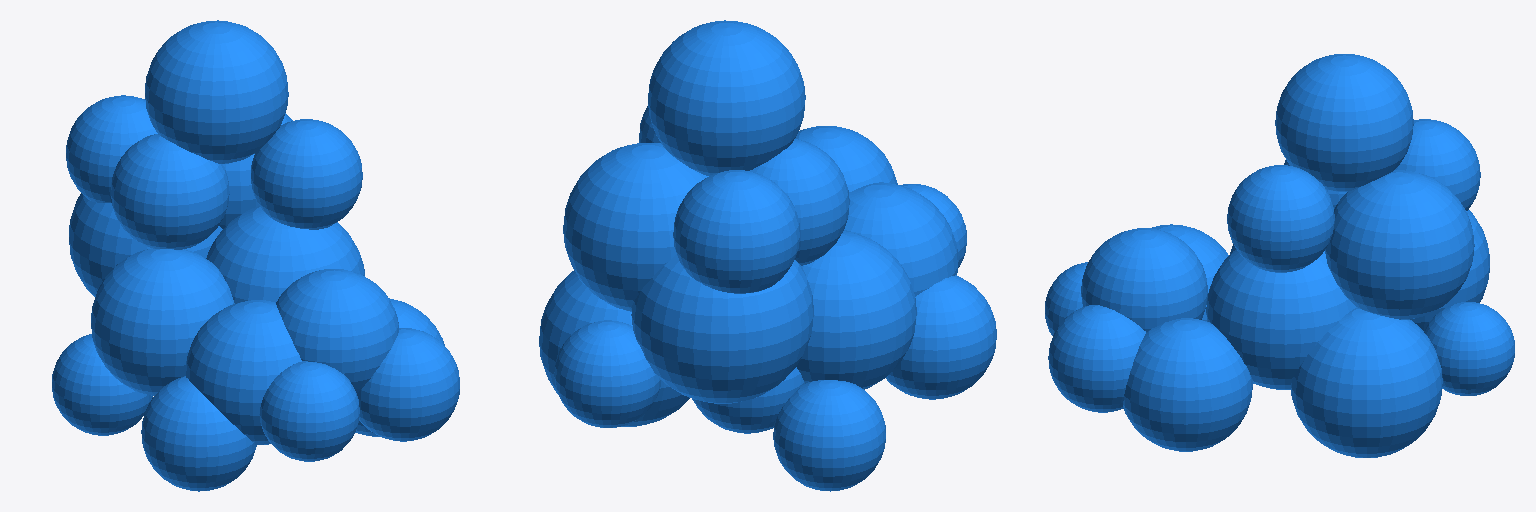
URDF robot description (school_bus):
<?xml version="1.0"?>
<robot name="school_bus">
  <!-- morphit:centroid -0.003094 0.006999 0.083657 -->
  <material name="default_color">
    <color rgba="0.200000 0.600000 1.000000 1.000000"/>
  </material>
  <link name="base">
    <inertial>
      <mass value="0.001000"/>
      <inertia ixx="0.000010" ixy="0.0" ixz="0.0" iyy="0.000010" iyz="0.0" izz="0.000010"/>
    </inertial>
  </link>
  <link name="sphere_0">
    <visual>
      <origin xyz="0 0 0" rpy="0 0 0"/>
      <geometry><sphere radius="0.043169"/></geometry>
      <material name="default_color"/>
    </visual>
    <collision>
      <origin xyz="0 0 0" rpy="0 0 0"/>
      <geometry><sphere radius="0.043169"/></geometry>
    </collision>
    <inertial>
      <mass value="0.091958"/>
      <inertia ixx="0.000069" ixy="0.0" ixz="0.0" iyy="0.000069" iyz="0.0" izz="0.000069"/>
    </inertial>
  </link>
  <joint name="sphere_0_fixed" type="fixed">
    <parent link="base"/>
    <child link="sphere_0"/>
    <origin xyz="0.054282 0.043085 -0.034448" rpy="0 0 0"/>
  </joint>
  <link name="sphere_1">
    <visual>
      <origin xyz="0 0 0" rpy="0 0 0"/>
      <geometry><sphere radius="0.039144"/></geometry>
      <material name="default_color"/>
    </visual>
    <collision>
      <origin xyz="0 0 0" rpy="0 0 0"/>
      <geometry><sphere radius="0.039144"/></geometry>
    </collision>
    <inertial>
      <mass value="0.068560"/>
      <inertia ixx="0.000042" ixy="0.0" ixz="0.0" iyy="0.000042" iyz="0.0" izz="0.000042"/>
    </inertial>
  </link>
  <joint name="sphere_1_fixed" type="fixed">
    <parent link="base"/>
    <child link="sphere_1"/>
    <origin xyz="0.003951 0.030680 0.103559" rpy="0 0 0"/>
  </joint>
  <link name="sphere_2">
    <visual>
      <origin xyz="0 0 0" rpy="0 0 0"/>
      <geometry><sphere radius="0.042398"/></geometry>
      <material name="default_color"/>
    </visual>
    <collision>
      <origin xyz="0 0 0" rpy="0 0 0"/>
      <geometry><sphere radius="0.042398"/></geometry>
    </collision>
    <inertial>
      <mass value="0.087118"/>
      <inertia ixx="0.000063" ixy="0.0" ixz="0.0" iyy="0.000063" iyz="0.0" izz="0.000063"/>
    </inertial>
  </link>
  <joint name="sphere_2_fixed" type="fixed">
    <parent link="base"/>
    <child link="sphere_2"/>
    <origin xyz="0.030629 0.061719 0.039698" rpy="0 0 0"/>
  </joint>
  <link name="sphere_3">
    <visual>
      <origin xyz="0 0 0" rpy="0 0 0"/>
      <geometry><sphere radius="0.031837"/></geometry>
      <material name="default_color"/>
    </visual>
    <collision>
      <origin xyz="0 0 0" rpy="0 0 0"/>
      <geometry><sphere radius="0.031837"/></geometry>
    </collision>
    <inertial>
      <mass value="0.036888"/>
      <inertia ixx="0.000015" ixy="0.0" ixz="0.0" iyy="0.000015" iyz="0.0" izz="0.000015"/>
    </inertial>
  </link>
  <joint name="sphere_3_fixed" type="fixed">
    <parent link="base"/>
    <child link="sphere_3"/>
    <origin xyz="-0.060131 -0.062119 -0.047635" rpy="0 0 0"/>
  </joint>
  <link name="sphere_4">
    <visual>
      <origin xyz="0 0 0" rpy="0 0 0"/>
      <geometry><sphere radius="0.037835"/></geometry>
      <material name="default_color"/>
    </visual>
    <collision>
      <origin xyz="0 0 0" rpy="0 0 0"/>
      <geometry><sphere radius="0.037835"/></geometry>
    </collision>
    <inertial>
      <mass value="0.061909"/>
      <inertia ixx="0.000035" ixy="0.0" ixz="0.0" iyy="0.000035" iyz="0.0" izz="0.000035"/>
    </inertial>
  </link>
  <joint name="sphere_4_fixed" type="fixed">
    <parent link="base"/>
    <child link="sphere_4"/>
    <origin xyz="0.054061 -0.058788 -0.036341" rpy="0 0 0"/>
  </joint>
  <link name="sphere_5">
    <visual>
      <origin xyz="0 0 0" rpy="0 0 0"/>
      <geometry><sphere radius="0.044699"/></geometry>
      <material name="default_color"/>
    </visual>
    <collision>
      <origin xyz="0 0 0" rpy="0 0 0"/>
      <geometry><sphere radius="0.044699"/></geometry>
    </collision>
    <inertial>
      <mass value="0.102089"/>
      <inertia ixx="0.000082" ixy="0.0" ixz="0.0" iyy="0.000082" iyz="0.0" izz="0.000082"/>
    </inertial>
  </link>
  <joint name="sphere_5_fixed" type="fixed">
    <parent link="base"/>
    <child link="sphere_5"/>
    <origin xyz="0.026743 -0.002778 -0.003082" rpy="0 0 0"/>
  </joint>
  <link name="sphere_6">
    <visual>
      <origin xyz="0 0 0" rpy="0 0 0"/>
      <geometry><sphere radius="0.030901"/></geometry>
      <material name="default_color"/>
    </visual>
    <collision>
      <origin xyz="0 0 0" rpy="0 0 0"/>
      <geometry><sphere radius="0.030901"/></geometry>
    </collision>
    <inertial>
      <mass value="0.033729"/>
      <inertia ixx="0.000013" ixy="0.0" ixz="0.0" iyy="0.000013" iyz="0.0" izz="0.000013"/>
    </inertial>
  </link>
  <joint name="sphere_6_fixed" type="fixed">
    <parent link="base"/>
    <child link="sphere_6"/>
    <origin xyz="0.042235 -0.105654 -0.025104" rpy="0 0 0"/>
  </joint>
  <link name="sphere_7">
    <visual>
      <origin xyz="0 0 0" rpy="0 0 0"/>
      <geometry><sphere radius="0.045263"/></geometry>
      <material name="default_color"/>
    </visual>
    <collision>
      <origin xyz="0 0 0" rpy="0 0 0"/>
      <geometry><sphere radius="0.045263"/></geometry>
    </collision>
    <inertial>
      <mass value="0.106003"/>
      <inertia ixx="0.000087" ixy="0.0" ixz="0.0" iyy="0.000087" iyz="0.0" izz="0.000087"/>
    </inertial>
  </link>
  <joint name="sphere_7_fixed" type="fixed">
    <parent link="base"/>
    <child link="sphere_7"/>
    <origin xyz="-0.015221 0.067824 0.006784" rpy="0 0 0"/>
  </joint>
  <link name="sphere_8">
    <visual>
      <origin xyz="0 0 0" rpy="0 0 0"/>
      <geometry><sphere radius="0.040850"/></geometry>
      <material name="default_color"/>
    </visual>
    <collision>
      <origin xyz="0 0 0" rpy="0 0 0"/>
      <geometry><sphere radius="0.040850"/></geometry>
    </collision>
    <inertial>
      <mass value="0.077918"/>
      <inertia ixx="0.000052" ixy="0.0" ixz="0.0" iyy="0.000052" iyz="0.0" izz="0.000052"/>
    </inertial>
  </link>
  <joint name="sphere_8_fixed" type="fixed">
    <parent link="base"/>
    <child link="sphere_8"/>
    <origin xyz="-0.042705 0.004958 -0.012482" rpy="0 0 0"/>
  </joint>
  <link name="sphere_9">
    <visual>
      <origin xyz="0 0 0" rpy="0 0 0"/>
      <geometry><sphere radius="0.026735"/></geometry>
      <material name="default_color"/>
    </visual>
    <collision>
      <origin xyz="0 0 0" rpy="0 0 0"/>
      <geometry><sphere radius="0.026735"/></geometry>
    </collision>
    <inertial>
      <mass value="0.021843"/>
      <inertia ixx="0.000006" ixy="0.0" ixz="0.0" iyy="0.000006" iyz="0.0" izz="0.000006"/>
    </inertial>
  </link>
  <joint name="sphere_9_fixed" type="fixed">
    <parent link="base"/>
    <child link="sphere_9"/>
    <origin xyz="0.031393 0.100456 -0.024592" rpy="0 0 0"/>
  </joint>
  <link name="sphere_10">
    <visual>
      <origin xyz="0 0 0" rpy="0 0 0"/>
      <geometry><sphere radius="0.028065"/></geometry>
      <material name="default_color"/>
    </visual>
    <collision>
      <origin xyz="0 0 0" rpy="0 0 0"/>
      <geometry><sphere radius="0.028065"/></geometry>
    </collision>
    <inertial>
      <mass value="0.025268"/>
      <inertia ixx="0.000008" ixy="0.0" ixz="0.0" iyy="0.000008" iyz="0.0" izz="0.000008"/>
    </inertial>
  </link>
  <joint name="sphere_10_fixed" type="fixed">
    <parent link="base"/>
    <child link="sphere_10"/>
    <origin xyz="-0.060978 0.041248 -0.060011" rpy="0 0 0"/>
  </joint>
  <link name="sphere_11">
    <visual>
      <origin xyz="0 0 0" rpy="0 0 0"/>
      <geometry><sphere radius="0.027412"/></geometry>
      <material name="default_color"/>
    </visual>
    <collision>
      <origin xyz="0 0 0" rpy="0 0 0"/>
      <geometry><sphere radius="0.027412"/></geometry>
    </collision>
    <inertial>
      <mass value="0.023544"/>
      <inertia ixx="0.000007" ixy="0.0" ixz="0.0" iyy="0.000007" iyz="0.0" izz="0.000007"/>
    </inertial>
  </link>
  <joint name="sphere_11_fixed" type="fixed">
    <parent link="base"/>
    <child link="sphere_11"/>
    <origin xyz="-0.019875 -0.111273 -0.024303" rpy="0 0 0"/>
  </joint>
  <link name="sphere_12">
    <visual>
      <origin xyz="0 0 0" rpy="0 0 0"/>
      <geometry><sphere radius="0.031532"/></geometry>
      <material name="default_color"/>
    </visual>
    <collision>
      <origin xyz="0 0 0" rpy="0 0 0"/>
      <geometry><sphere radius="0.031532"/></geometry>
    </collision>
    <inertial>
      <mass value="0.035837"/>
      <inertia ixx="0.000014" ixy="0.0" ixz="0.0" iyy="0.000014" iyz="0.0" izz="0.000014"/>
    </inertial>
  </link>
  <joint name="sphere_12_fixed" type="fixed">
    <parent link="base"/>
    <child link="sphere_12"/>
    <origin xyz="-0.028035 0.076096 0.056214" rpy="0 0 0"/>
  </joint>
  <link name="sphere_13">
    <visual>
      <origin xyz="0 0 0" rpy="0 0 0"/>
      <geometry><sphere radius="0.030520"/></geometry>
      <material name="default_color"/>
    </visual>
    <collision>
      <origin xyz="0 0 0" rpy="0 0 0"/>
      <geometry><sphere radius="0.030520"/></geometry>
    </collision>
    <inertial>
      <mass value="0.032497"/>
      <inertia ixx="0.000012" ixy="0.0" ixz="0.0" iyy="0.000012" iyz="0.0" izz="0.000012"/>
    </inertial>
  </link>
  <joint name="sphere_13_fixed" type="fixed">
    <parent link="base"/>
    <child link="sphere_13"/>
    <origin xyz="0.039616 -0.005187 0.060268" rpy="0 0 0"/>
  </joint>
  <link name="sphere_14">
    <visual>
      <origin xyz="0 0 0" rpy="0 0 0"/>
      <geometry><sphere radius="0.032350"/></geometry>
      <material name="default_color"/>
    </visual>
    <collision>
      <origin xyz="0 0 0" rpy="0 0 0"/>
      <geometry><sphere radius="0.032350"/></geometry>
    </collision>
    <inertial>
      <mass value="0.038698"/>
      <inertia ixx="0.000016" ixy="0.0" ixz="0.0" iyy="0.000016" iyz="0.0" izz="0.000016"/>
    </inertial>
  </link>
  <joint name="sphere_14_fixed" type="fixed">
    <parent link="base"/>
    <child link="sphere_14"/>
    <origin xyz="-0.027108 0.027341 0.052901" rpy="0 0 0"/>
  </joint>
  <link name="sphere_15">
    <visual>
      <origin xyz="0 0 0" rpy="0 0 0"/>
      <geometry><sphere radius="0.030658"/></geometry>
      <material name="default_color"/>
    </visual>
    <collision>
      <origin xyz="0 0 0" rpy="0 0 0"/>
      <geometry><sphere radius="0.030658"/></geometry>
    </collision>
    <inertial>
      <mass value="0.032938"/>
      <inertia ixx="0.000012" ixy="0.0" ixz="0.0" iyy="0.000012" iyz="0.0" izz="0.000012"/>
    </inertial>
  </link>
  <joint name="sphere_15_fixed" type="fixed">
    <parent link="base"/>
    <child link="sphere_15"/>
    <origin xyz="-0.014416 0.041664 -0.036254" rpy="0 0 0"/>
  </joint>
  <link name="sphere_16">
    <visual>
      <origin xyz="0 0 0" rpy="0 0 0"/>
      <geometry><sphere radius="0.039464"/></geometry>
      <material name="default_color"/>
    </visual>
    <collision>
      <origin xyz="0 0 0" rpy="0 0 0"/>
      <geometry><sphere radius="0.039464"/></geometry>
    </collision>
    <inertial>
      <mass value="0.070255"/>
      <inertia ixx="0.000044" ixy="0.0" ixz="0.0" iyy="0.000044" iyz="0.0" izz="0.000044"/>
    </inertial>
  </link>
  <joint name="sphere_16_fixed" type="fixed">
    <parent link="base"/>
    <child link="sphere_16"/>
    <origin xyz="-0.026586 -0.067075 -0.017475" rpy="0 0 0"/>
  </joint>
  <link name="sphere_17">
    <visual>
      <origin xyz="0 0 0" rpy="0 0 0"/>
      <geometry><sphere radius="0.035913"/></geometry>
      <material name="default_color"/>
    </visual>
    <collision>
      <origin xyz="0 0 0" rpy="0 0 0"/>
      <geometry><sphere radius="0.035913"/></geometry>
    </collision>
    <inertial>
      <mass value="0.052947"/>
      <inertia ixx="0.000027" ixy="0.0" ixz="0.0" iyy="0.000027" iyz="0.0" izz="0.000027"/>
    </inertial>
  </link>
  <joint name="sphere_17_fixed" type="fixed">
    <parent link="base"/>
    <child link="sphere_17"/>
    <origin xyz="0.012145 -0.082197 0.002302" rpy="0 0 0"/>
  </joint>
</robot>

--- Render facts (derived) ---
3 views of the same robot in one strip: view 1: azimuth 30°, elevation 25°; view 2: azimuth 150°, elevation 25°; view 3: azimuth 270°, elevation 25° (orthographic).
Model school_bus with 19 links and 18 joints (18 fixed), rooted at base, posed all joints at 0.
Links seen in each view (by area): view 1: sphere_1, sphere_8, sphere_14, sphere_17, sphere_16, sphere_13, sphere_5, sphere_3, sphere_6, sphere_11, sphere_10, sphere_12 (+3 smaller); view 2: sphere_1, sphere_7, sphere_2, sphere_8, sphere_12, sphere_10, sphere_3, sphere_9, sphere_16, sphere_14, sphere_0, sphere_17 (+2 smaller); view 3: sphere_2, sphere_0, sphere_1, sphere_4, sphere_5, sphere_17, sphere_13, sphere_6, sphere_9, sphere_12, sphere_7, sphere_11 (+1 smaller).
Link boxes in pixels (x1,y1,x2,y2): sphere_1: (145, 20, 288, 163); sphere_8: (91, 248, 234, 395); sphere_14: (111, 134, 229, 249); sphere_17: (276, 269, 398, 392); sphere_16: (185, 300, 301, 444); sphere_13: (251, 119, 362, 229); sphere_5: (206, 206, 364, 303); sphere_3: (141, 376, 256, 491); sphere_6: (357, 328, 459, 441); sphere_11: (259, 361, 359, 461); sphere_10: (52, 334, 152, 435); sphere_12: (66, 95, 157, 202); sphere_1: (648, 20, 805, 175); sphere_7: (631, 254, 813, 403); sphere_2: (563, 143, 708, 311); sphere_8: (796, 231, 916, 389); sphere_12: (673, 170, 799, 293); sphere_10: (773, 380, 885, 491); sphere_3: (886, 275, 996, 399); sphere_9: (554, 320, 660, 427); sphere_16: (844, 182, 958, 296); sphere_14: (750, 139, 849, 265); sphere_0: (539, 270, 689, 426); sphere_17: (795, 126, 897, 191); sphere_2: (1325, 170, 1474, 319); sphere_0: (1291, 307, 1442, 457); sphere_1: (1275, 54, 1413, 191); sphere_4: (1123, 318, 1252, 451); sphere_5: (1206, 249, 1356, 389); sphere_17: (1081, 228, 1207, 331); sphere_13: (1227, 165, 1334, 272); sphere_6: (1048, 305, 1145, 412); sphere_9: (1424, 302, 1514, 395); sphere_12: (1395, 119, 1480, 210); sphere_7: (1410, 210, 1489, 330); sphere_11: (1045, 262, 1087, 335).
Bounding box of the posed robot: 0.1894 × 0.2659 × 0.2308 m (x, y, z).
Geometry: primitives only (box / cylinder / sphere), no mesh files.
